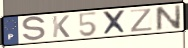5: (78, 11, 99, 38)
K: (52, 15, 72, 39)
N: (154, 4, 182, 33)
S: (21, 15, 47, 43)
X: (101, 9, 129, 36)
Z: (129, 7, 155, 33)
